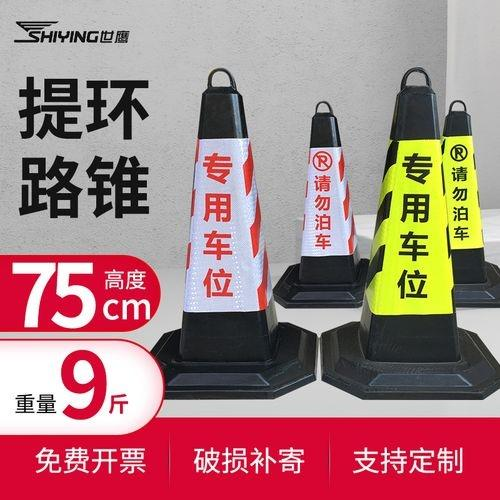cone_barrel: (159, 81, 290, 372), (355, 80, 469, 368), (283, 102, 364, 304), (436, 98, 494, 283)
